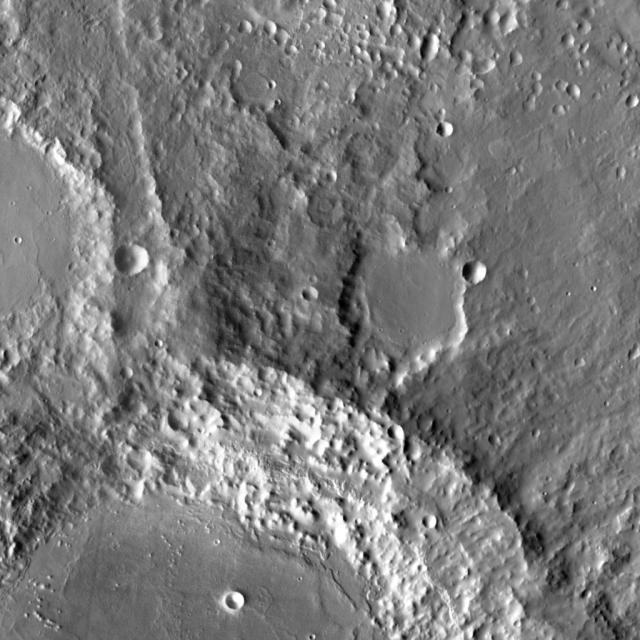crater: (342, 240, 477, 368), (417, 196, 472, 248), (358, 214, 411, 262), (118, 242, 153, 274), (466, 262, 490, 285), (421, 37, 445, 59), (172, 411, 192, 430), (229, 590, 249, 608), (300, 403, 319, 421), (504, 12, 522, 30), (408, 442, 426, 459), (440, 121, 458, 137), (487, 10, 504, 26), (420, 417, 438, 432), (306, 286, 323, 301), (279, 31, 294, 46), (391, 426, 407, 440), (411, 34, 425, 47), (426, 516, 440, 528), (380, 3, 394, 15), (534, 80, 548, 92), (622, 40, 636, 52), (573, 85, 586, 97), (583, 20, 596, 32), (514, 52, 527, 64), (331, 170, 343, 182), (125, 366, 137, 378), (567, 34, 580, 45), (394, 23, 407, 34), (388, 68, 401, 79), (270, 23, 282, 34), (246, 23, 258, 34), (560, 0, 574, 9), (621, 166, 632, 177), (385, 60, 396, 71), (630, 94, 640, 106), (588, 8, 600, 18), (556, 106, 568, 116), (291, 46, 302, 56), (354, 44, 365, 54), (523, 269, 534, 279), (329, 0, 341, 9), (562, 81, 572, 91), (495, 434, 505, 444), (537, 70, 547, 80), (364, 28, 374, 38), (579, 359, 589, 369), (626, 71, 636, 80), (398, 59, 407, 68), (321, 40, 330, 49), (536, 429, 546, 437), (584, 42, 594, 50), (584, 60, 594, 68), (72, 262, 82, 270), (535, 306, 544, 314), (624, 80, 632, 88), (423, 70, 431, 78), (361, 22, 369, 30), (12, 228, 20, 236), (159, 340, 167, 348), (258, 388, 266, 396), (304, 0, 314, 6), (273, 81, 281, 88), (364, 39, 372, 46), (532, 297, 540, 304), (314, 274, 322, 281), (442, 178, 449, 185), (624, 58, 632, 64), (577, 42, 584, 48)
